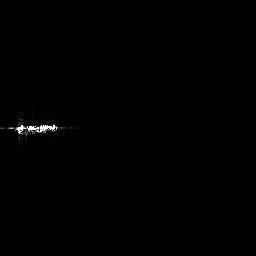ship: (1, 119, 69, 140)
